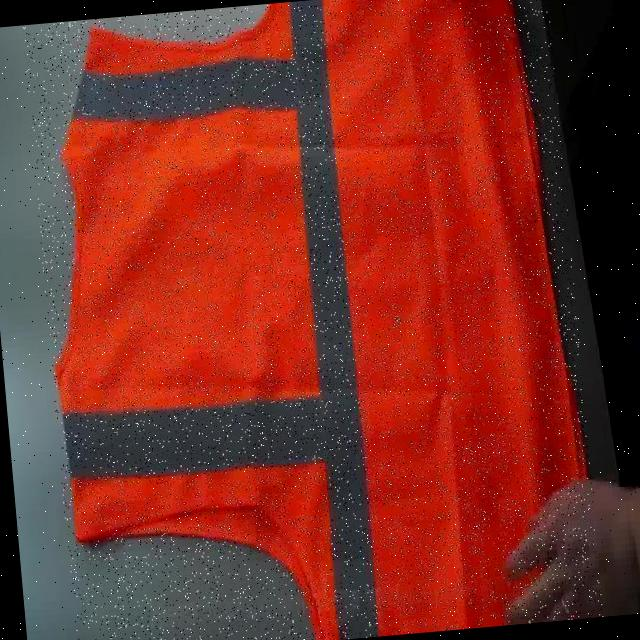vest: (21, 0, 603, 640)
